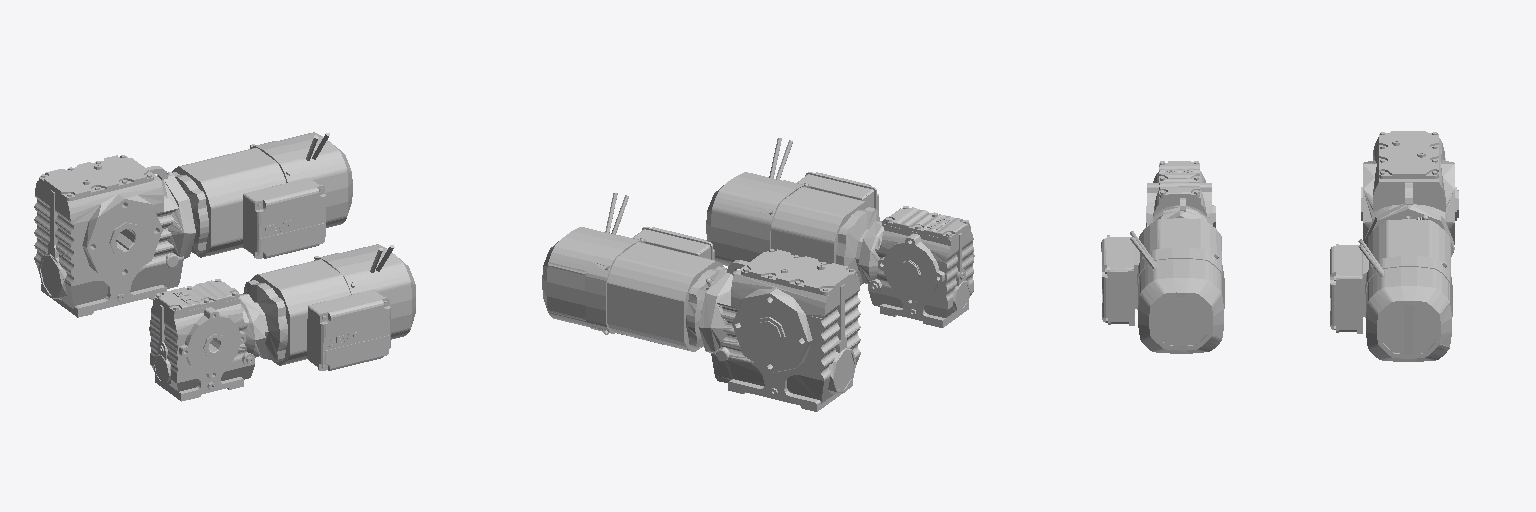
File: door.obj
The picture shows the model from 3 angles: view 1: azimuth 30°, elevation 25°; view 2: azimuth 150°, elevation 25°; view 3: azimuth 270°, elevation 25°; orthographic projection.
Parts seen in each view (by area): view 1: SEWHR, Sewh; view 2: SEWHR, Sewh; view 3: SEWHR, Sewh.
Boxes of the visible parts, x1=… form: SEWHR: x1=34, y1=132, x2=352, y2=317; Sewh: x1=149, y1=244, x2=415, y2=401; SEWHR: x1=542, y1=193, x2=860, y2=411; Sewh: x1=706, y1=138, x2=974, y2=327; SEWHR: x1=1330, y1=131, x2=1458, y2=361; Sewh: x1=1101, y1=161, x2=1224, y2=353.
Bounding box in the file's own units: 591 × 257 × 629.